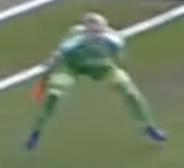goalkeeper: (17, 6, 184, 168)
